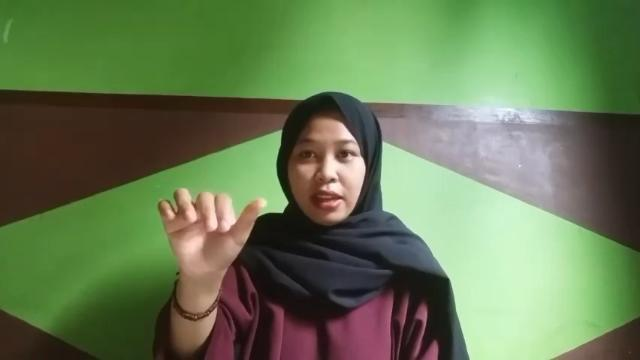S: (153, 187, 267, 279)
